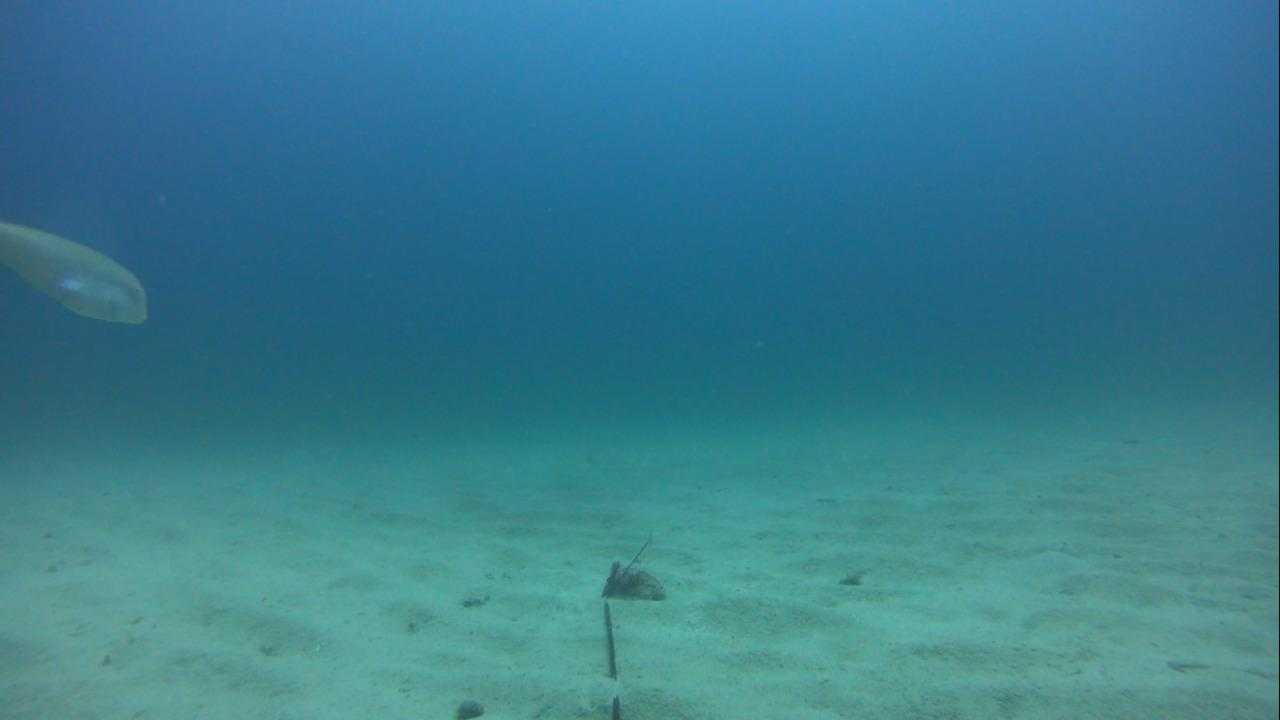raor: (0, 217, 152, 329)
